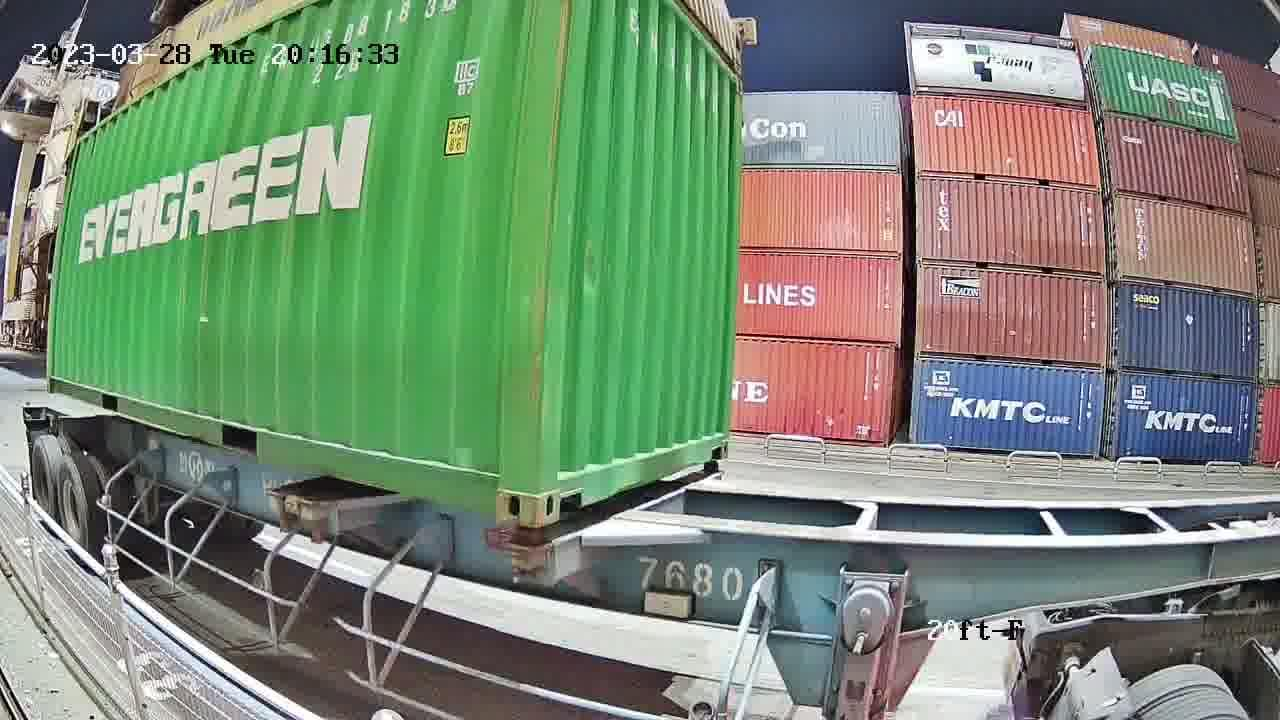Chassis: (507, 468, 724, 580)
Cone: (501, 527, 545, 581)
Hole_L: (537, 445, 591, 529)
Hole_R: (459, 445, 537, 528), (704, 421, 730, 460)
Tire: (58, 462, 87, 555), (30, 440, 56, 526)
